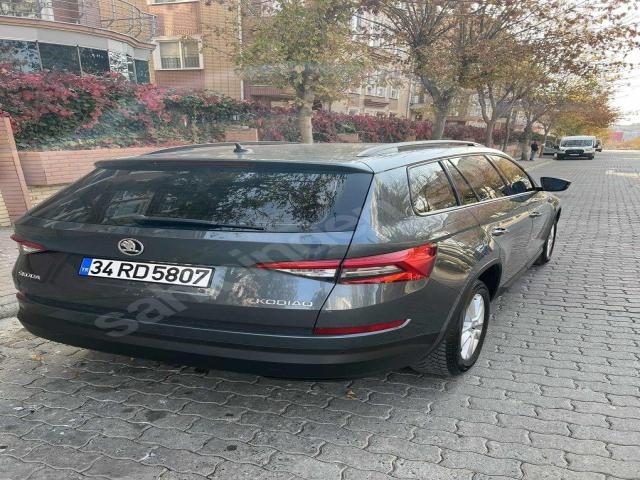plaka: (80, 259, 212, 288)
